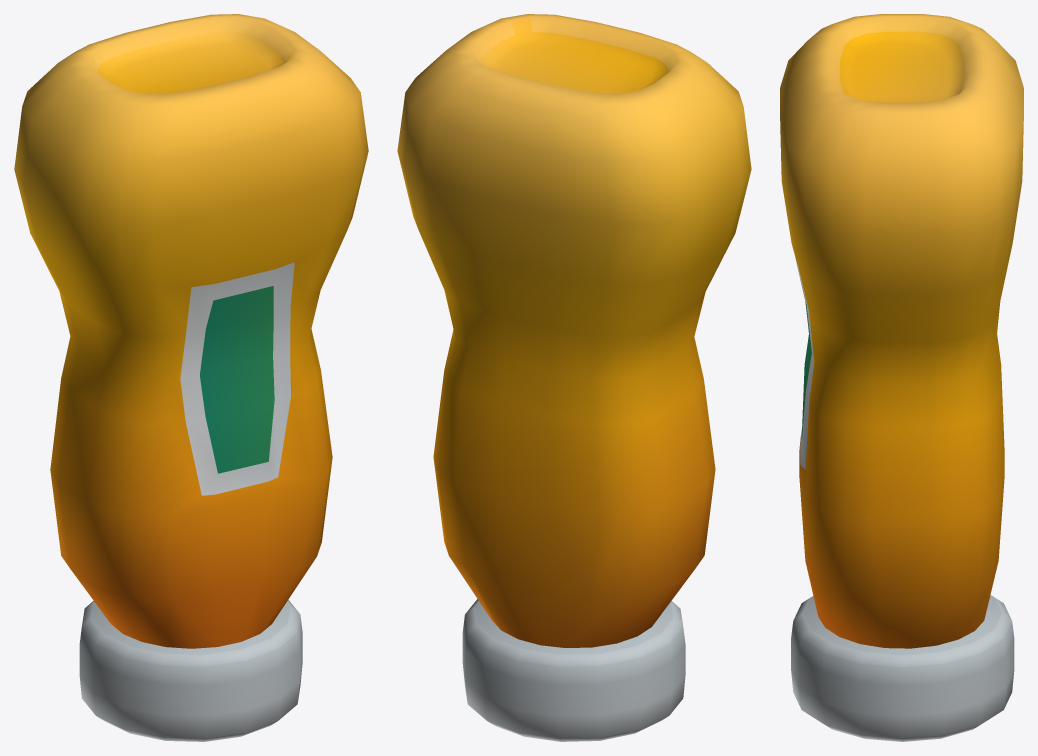
Rendered from sauce_004.fbx.
The picture shows the model from 3 angles, left to right: view 1: azimuth 30°, elevation 25°; view 2: azimuth 150°, elevation 25°; view 3: azimuth 270°, elevation 25°; orthographic projection.
Parts seen in each view (by area): view 1: sauce_004; view 2: sauce_004; view 3: sauce_004.
Part boxes in pixels (x1=…): sauce_004: x1=14, y1=14, x2=368, y2=741; sauce_004: x1=397, y1=14, x2=751, y2=741; sauce_004: x1=780, y1=14, x2=1023, y2=741.
Bounding box in the file's own units: 8.07 × 5.72 × 16.59.
